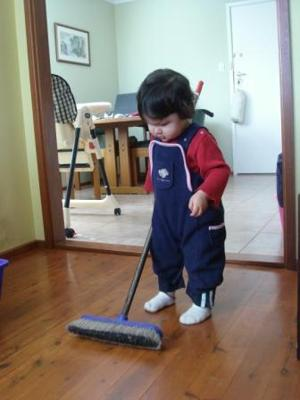person: (137, 68, 235, 328)
